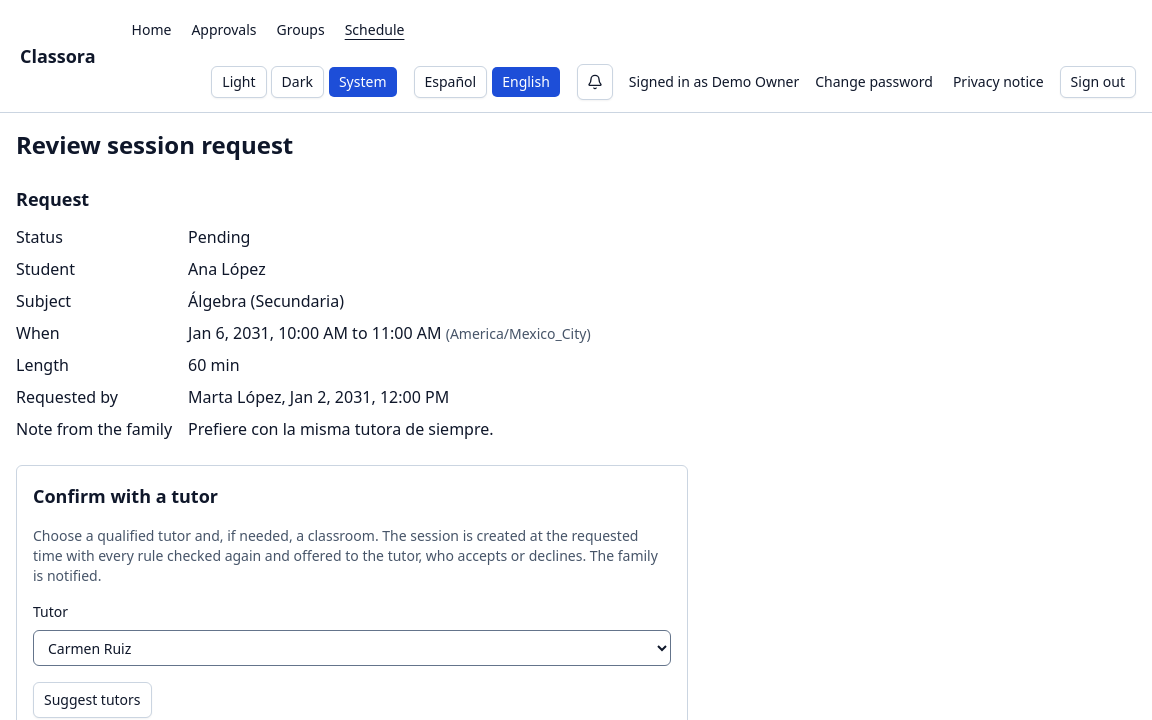
Test case: /schedule/requests/:id › session_request_not_pending shows a message and reloads the request
Select "Carmen Ruiz" in the dropdown labelled "Tutor": (352, 648) [33, 630, 671, 666]
(page scrolled)
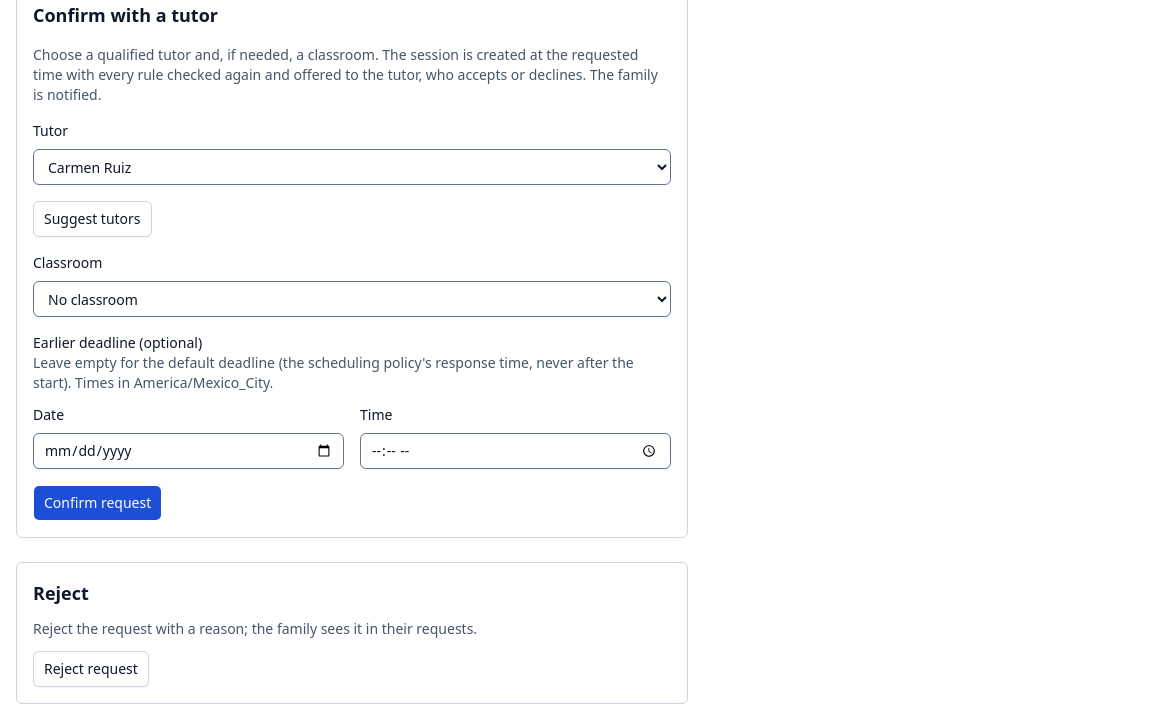
Click the button "Confirm request": (98, 503) [33, 485, 162, 521]
(page scrolled)
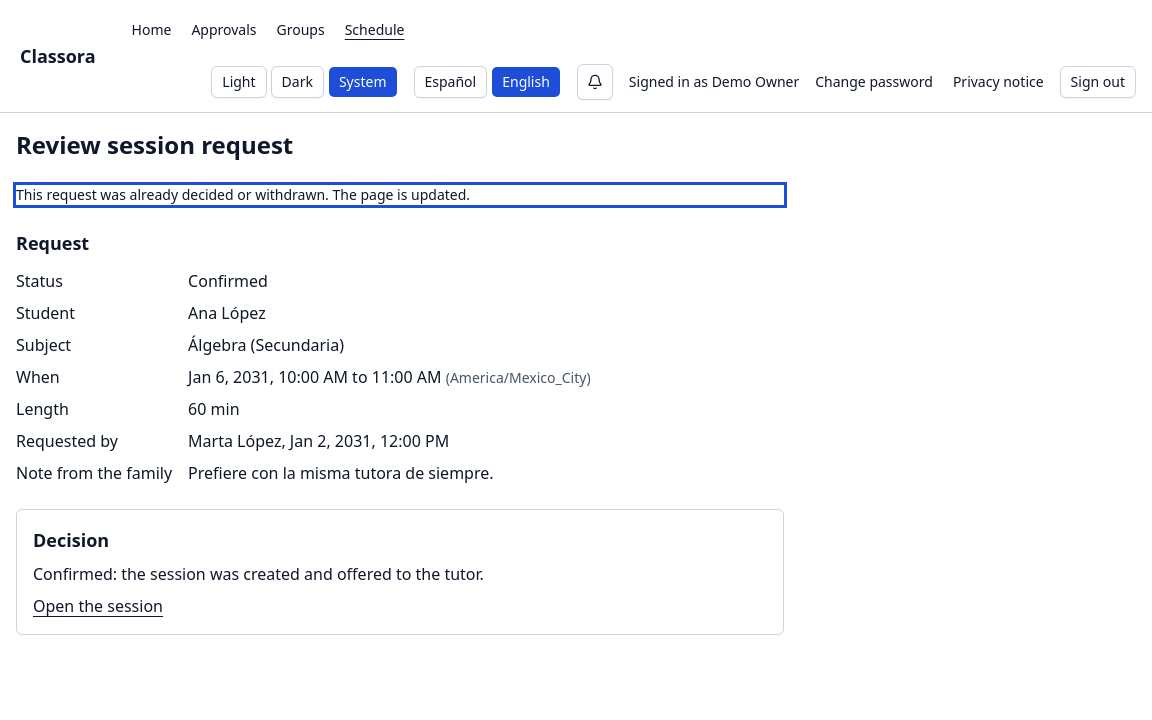
Check: the element that starts with "Review session request" shows "Decision", box [33, 528, 109, 552]
